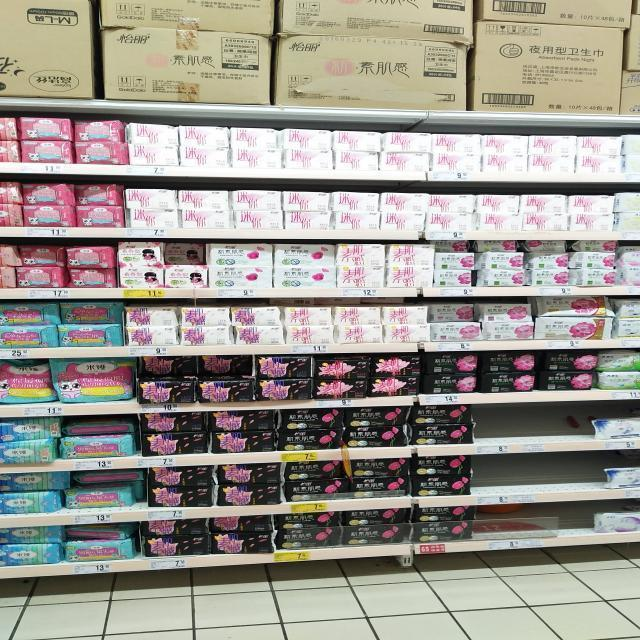Imprecise: (435, 235, 621, 293), (142, 351, 256, 406), (57, 408, 137, 460), (62, 522, 141, 564), (64, 470, 140, 513), (162, 238, 214, 296), (427, 300, 482, 347)
